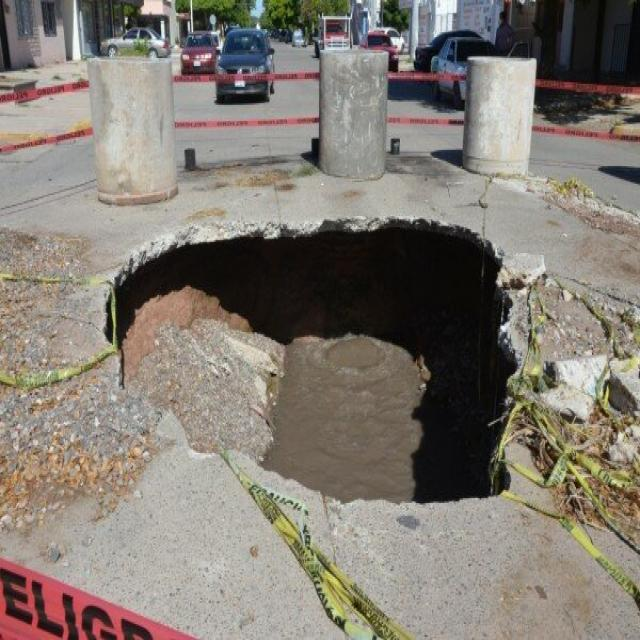Pothole: (54, 206, 555, 544)
